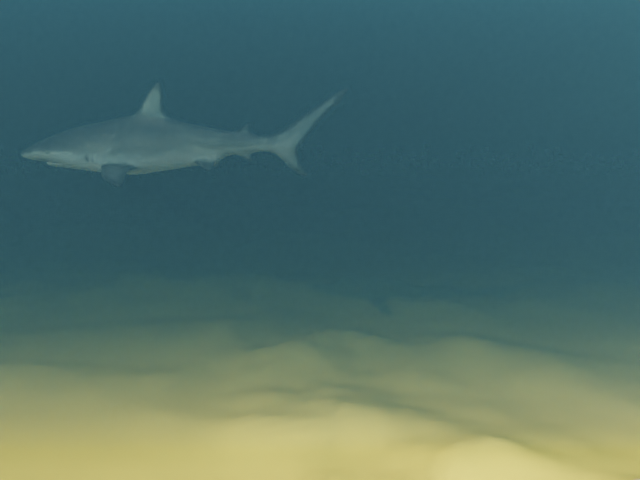Carribean Shark.001: (20, 82, 348, 186)
